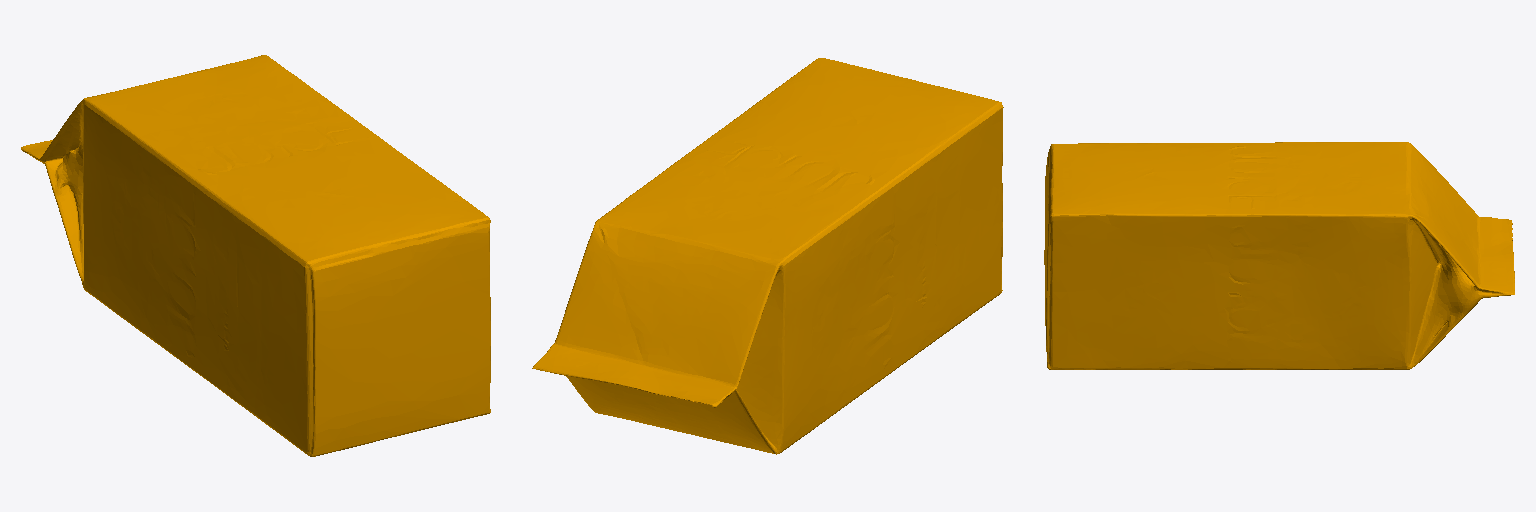
robot.urdf — orange_juice:
<?xml version="1.0"?>
<!-- GENERATED by tasks/libero/build_env/build_object_urdf.py. Do not hand edit.

     LIBERO object `orange_juice`, spawnable by the TRO-MP env.
     Role: graspable target object (envs/), one of the 22 LIBERO target assets.

     WHY a URDF when envs/orange_juice/ may also hold a USD: this env spawns objects
     only through `assets.object_urdf` (scene_utils.py:1929, which calls
     _convert_urdf_to_usd at :1964). The assets dataclass declares no USD field,
     so a ready-made USD cannot be handed to this code path.

     Mesh coordinates are PRESERVED, not re-centred: 11 of 22 LIBERO envs have
     their mesh origin at the object's base, and `goal_traj` tracks that origin.
     Re-centring would offset the object from its own trajectory every frame.

     Mass: density 800.0 kg/m^3 x mesh volume 3.409439e-04 m^3
     Inertia: solid-box approximation about the COM at that mass, NOT the true
     mesh inertia tensor. Adequate for a graspable tabletop object; revisit if
     spin dynamics matter.

     Collision: the full mesh, decomposed by Isaac's URDF importer. The convex
     decomposition authored in the DexVerse USD is NOT reproduced here.
-->
<robot name="orange_juice">
  <link name="orange_juice">
    <inertial>
      <origin xyz="-0.000026 -0.010750 0.000049" rpy="0 0 0"/>
      <mass value="0.272755"/>
      <inertia ixx="5.414208e-04" ixy="0" ixz="0" iyy="1.332408e-04" iyz="0" izz="5.392094e-04"/>
    </inertial>
    <visual>
      <origin xyz="0 0 0" rpy="0 0 0"/>
      <geometry><mesh filename="orange_juice.obj" scale="1 1 1"/></geometry>
    </visual>
    <collision>
      <origin xyz="0 0 0" rpy="0 0 0"/>
      <geometry><mesh filename="orange_juice.obj" scale="1 1 1"/></geometry>
    </collision>
  </link>
</robot>

--- Facts derived from the render (not from the file) ---
Views: 3 orthographic renders of the robot side by side, from view 1: azimuth 30°, elevation 25°; view 2: azimuth 150°, elevation 25°; view 3: azimuth 270°, elevation 25°.
Model orange_juice with 1 links and 0 joints (none), rooted at orange_juice, posed all joints at 0.
Visible links, largest first — view 1: orange_juice; view 2: orange_juice; view 3: orange_juice.
Link boxes in pixels (<box>): orange_juice: <box>21,55,490,456</box>; orange_juice: <box>532,58,1003,454</box>; orange_juice: <box>1044,142,1514,369</box>.
Bounding box of the posed robot: 0.0537 × 0.1444 × 0.0546 m (x, y, z).
1 mesh visuals loaded from 1 distinct referenced files (1 OBJ).
